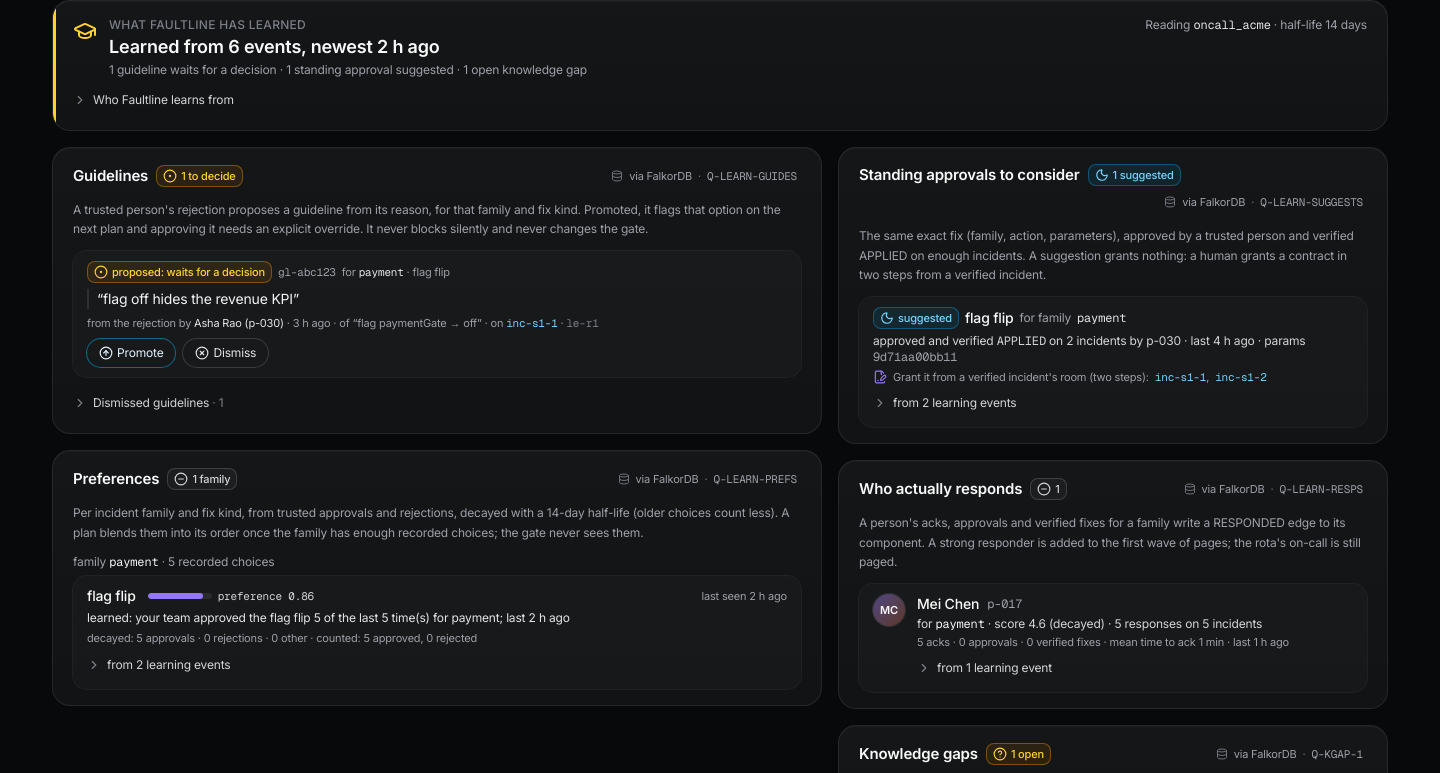
it: What Faultline has learned › promotes a guideline only after a confirm that asks who decides, with the approver key as a header
Expected: the text "Learned from 6 events, newest 2 h ago" is shown, x1=109 y1=36 x2=440 y2=57
Click the button with aria-label "Promote guideline gl-abc123": (131, 353) x1=87 y1=339 x2=176 y2=367
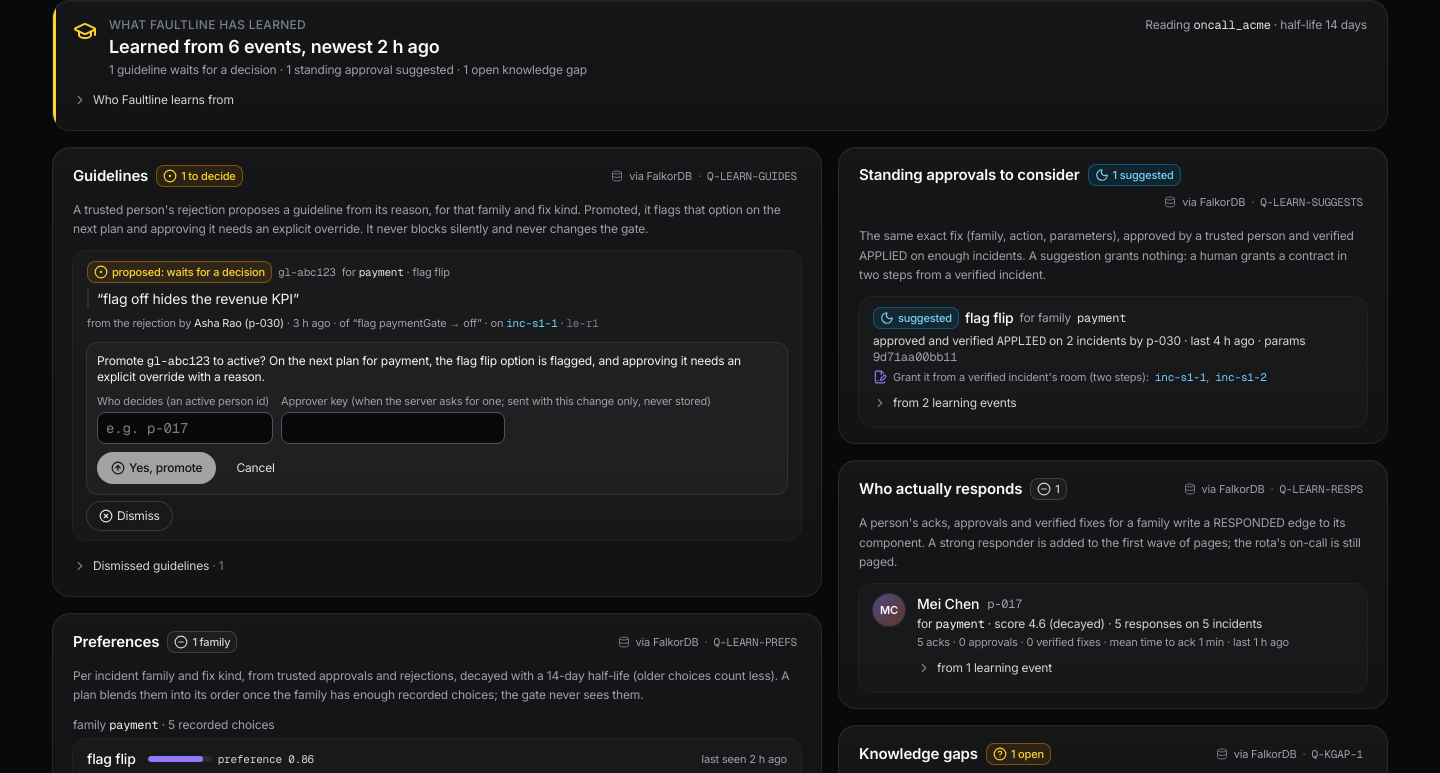
Expected: the element named "Confirm: Promote guideline gl-abc123" shows "needs an explicit override", x1=97 y1=353 x2=741 y2=384
Expected: the button "Yes, promote" is disabled, x1=97 y1=452 x2=216 y2=484
In the field labelled "Who decides (an active person id)": (185, 428) x1=97 y1=412 x2=273 y2=444, type "p-017"
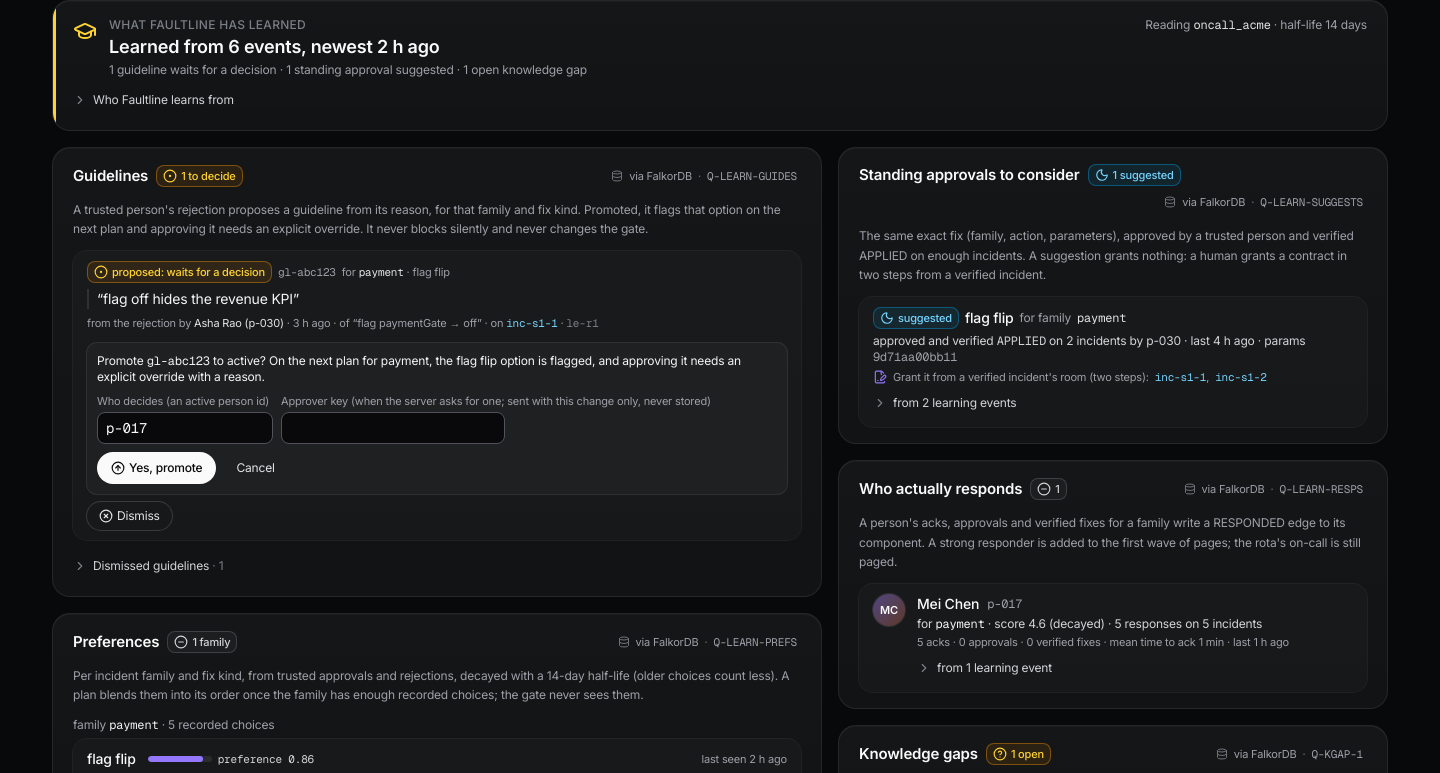
In the password field labelled "Approver key": (393, 428) x1=281 y1=412 x2=505 y2=444, type "k3y"
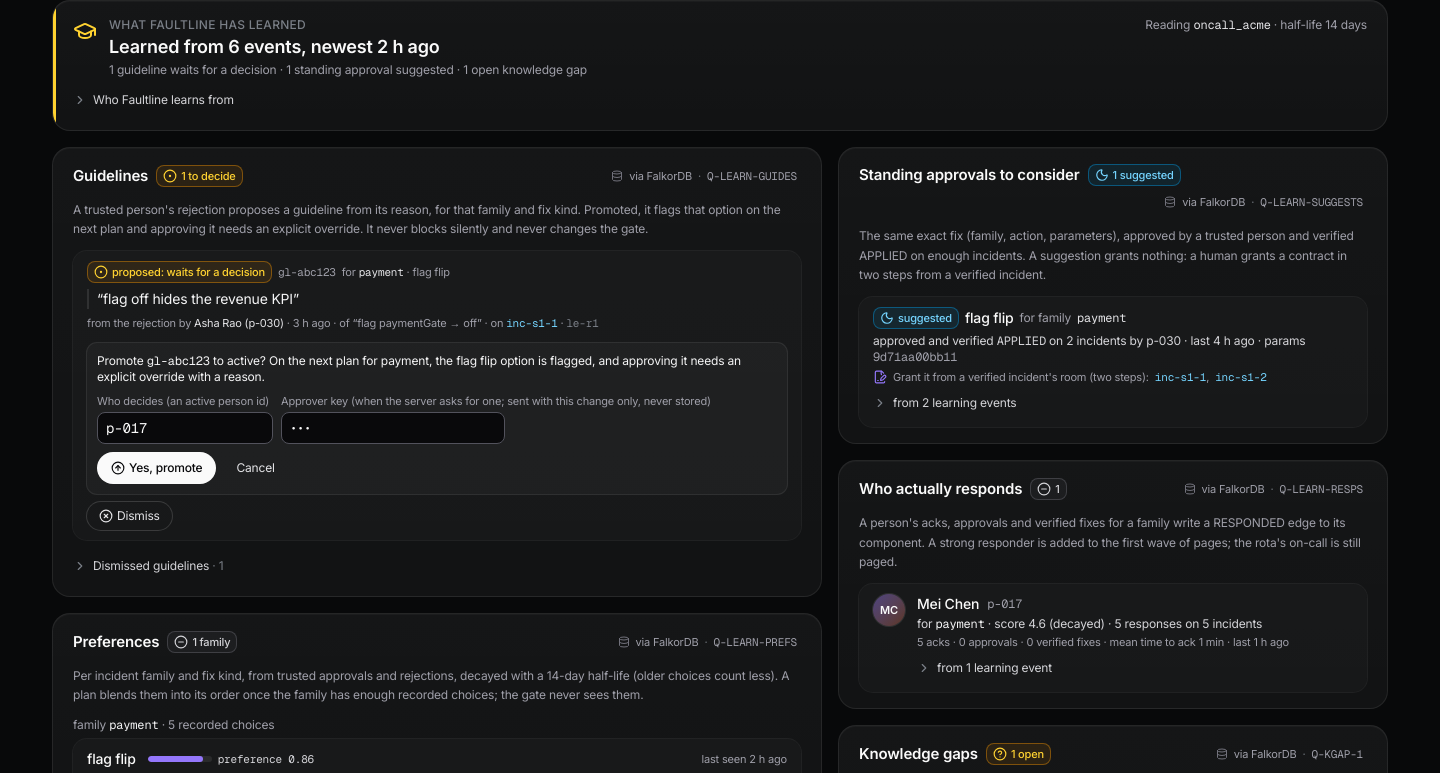
Click the button "Yes, promote": (157, 468) x1=97 y1=452 x2=216 y2=484
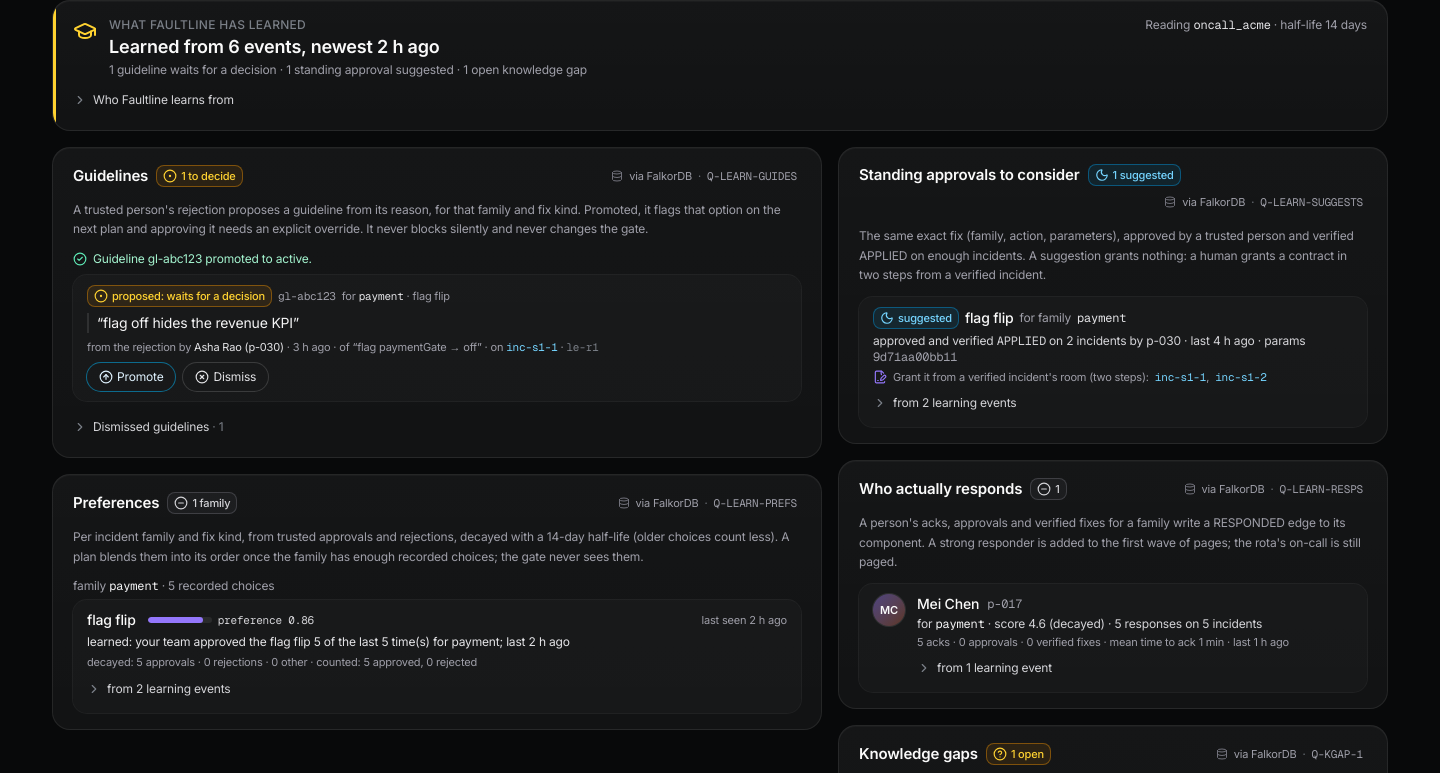
Expected: the text "Guideline gl-abc123 promoted to active." is shown, x1=73 y1=251 x2=312 y2=266
